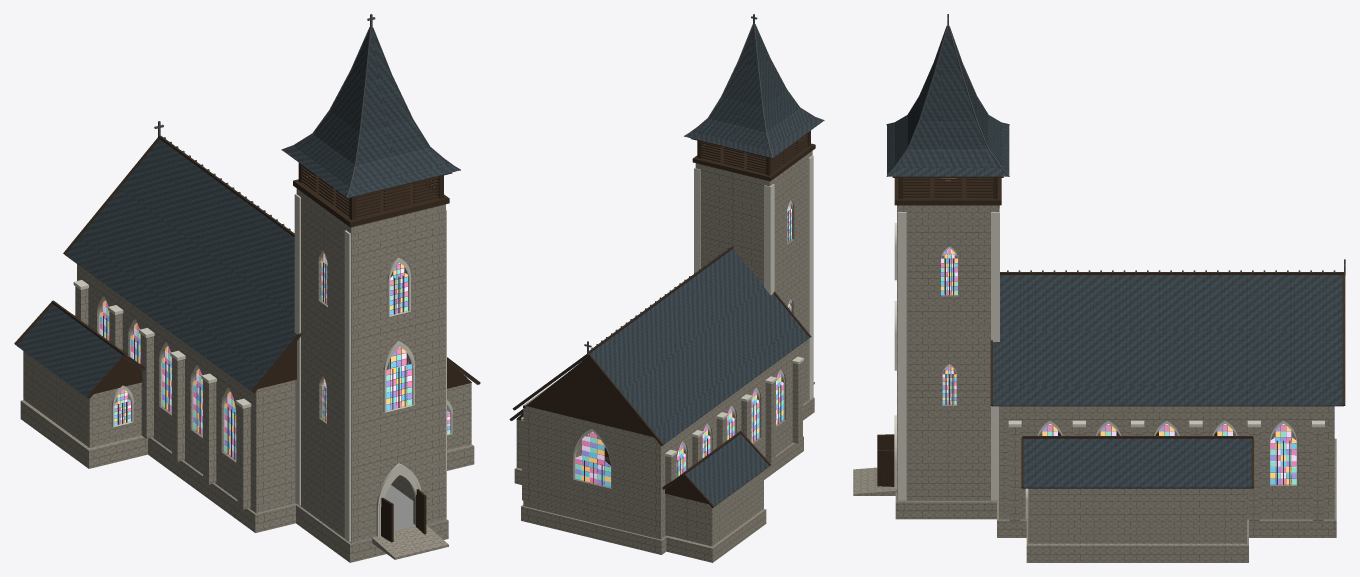
Rendered from church.glb.
3 views of the same model, side by side, from view 1: azimuth 30°, elevation 25°; view 2: azimuth 150°, elevation 25°; view 3: azimuth 270°, elevation 25° (orthographic). The views are drawn at different scales.
Visible parts, largest first — view 1: Church Weathered limestone, Church Blue slate, Church Aged dark oak, Church Carved pale stone, Church Forged iron, Church Worn flagstones, Church Glass 2, Church Glass 4, Church Glass 3, Church Glass 5, Church Glass 1, Church Glass 0; view 2: Church Weathered limestone, Church Blue slate, Church Aged dark oak, Church Carved pale stone, Church Forged iron, Church Glass 4, Church Glass 1, Church Glass 2, Church Glass 3, Church Glass 5, Church Glass 0; view 3: Church Blue slate, Church Weathered limestone, Church Carved pale stone, Church Aged dark oak, Church Forged iron, Door leaf 1, Church Glass 3.
Boxes of the visible parts, x1,y1,x2,y2 form: Church Weathered limestone: (20, 188, 474, 562); Church Blue slate: (16, 27, 478, 398); Church Aged dark oak: (14, 135, 480, 449); Church Carved pale stone: (73, 194, 452, 542); Church Forged iron: (103, 14, 460, 459); Church Worn flagstones: (153, 374, 445, 543); Church Glass 2: (100, 254, 450, 457); Church Glass 4: (102, 259, 450, 452); Church Glass 3: (100, 253, 407, 454); Church Glass 5: (100, 257, 450, 450); Church Glass 1: (102, 264, 450, 459); Church Glass 0: (100, 265, 450, 459); Church Weathered limestone: (514, 151, 814, 562); Church Blue slate: (511, 25, 823, 507); Church Aged dark oak: (509, 130, 815, 507); Church Carved pale stone: (521, 155, 813, 487); Church Forged iron: (584, 14, 824, 485); Church Glass 4: (575, 207, 791, 480); Church Glass 1: (575, 203, 791, 485); Church Glass 2: (575, 204, 791, 483); Church Glass 3: (582, 206, 791, 482); Church Glass 5: (575, 209, 791, 478); Church Glass 0: (582, 210, 791, 487); Church Blue slate: (887, 26, 1343, 488); Church Weathered limestone: (853, 205, 1336, 562); Church Carved pale stone: (894, 205, 1324, 519); Church Aged dark oak: (892, 176, 1345, 488); Church Forged iron: (886, 14, 1345, 484); Door leaf 1: (877, 449, 894, 486); Church Glass 3: (941, 250, 1296, 484).
Size of the model in its own units: 22.31 by 36.51 by 33.76.
Materials: 20 (4 with a texture image).
